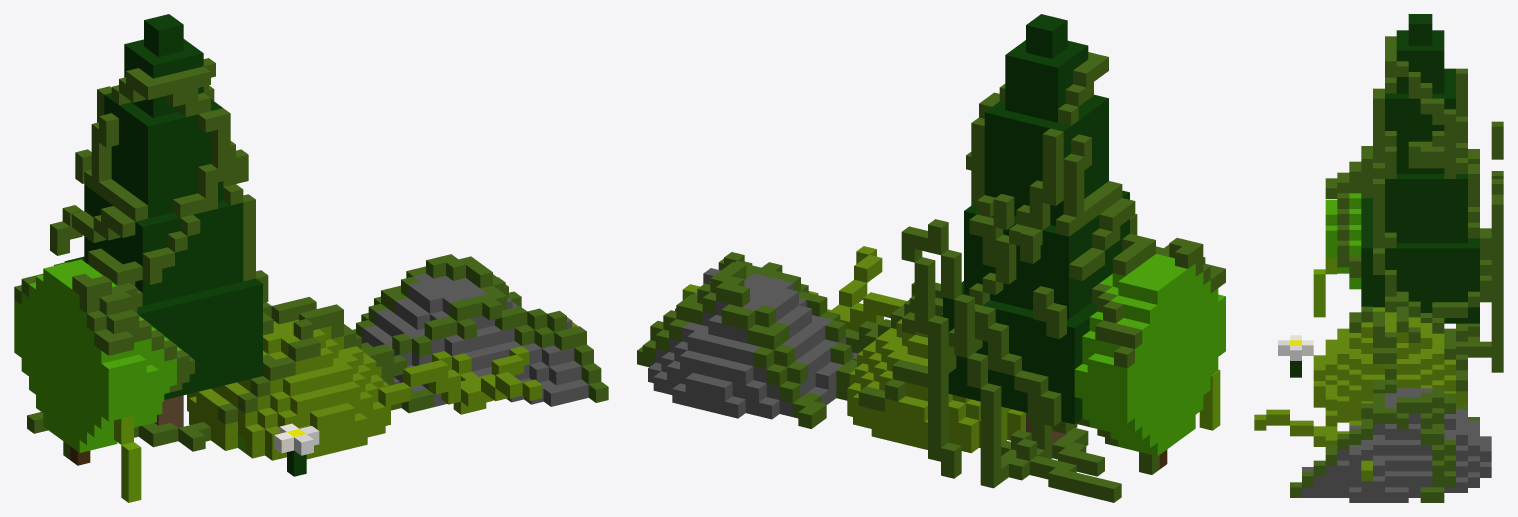
Rendered from Tiles 2 morceau 4.obj.
3 renders of one model, left to right at view 1: azimuth 30°, elevation 25°; view 2: azimuth 150°, elevation 25°; view 3: azimuth 270°, elevation 25°, orthographic. The views are drawn at different scales.
Visible parts, largest first — view 1: Tiles 2 morceau 4; view 2: Tiles 2 morceau 4; view 3: Tiles 2 morceau 4.
Boxes of the visible parts, x1,y1,x2,y2 form: Tiles 2 morceau 4: (14, 14, 608, 502); Tiles 2 morceau 4: (637, 14, 1225, 502); Tiles 2 morceau 4: (1254, 14, 1503, 502).
Size of the model in its own units: 39 by 31 by 21.
Materials: 1 (1 with a texture image).
